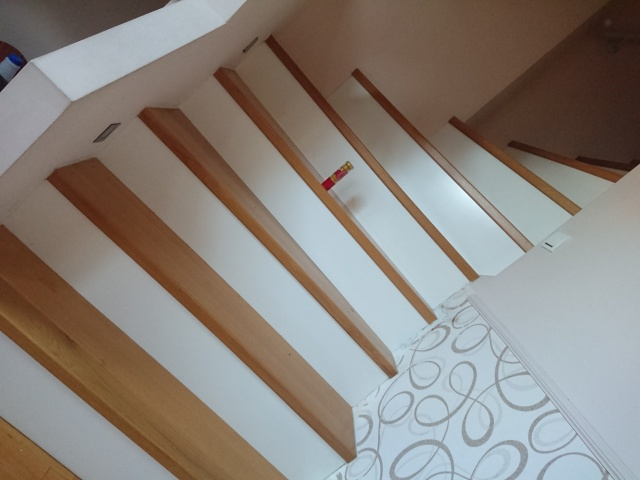Kotanyi Curry Spices Mix 70g: (319, 160, 356, 193)
